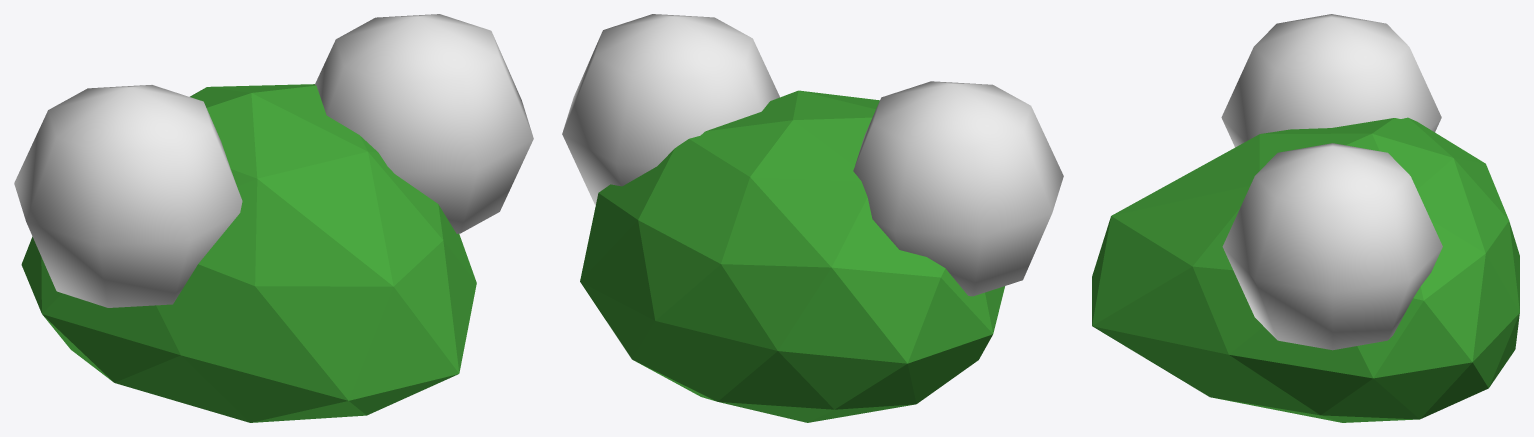
File: mordeczka.fbx
3 views of the same model, side by side, from view 1: azimuth 30°, elevation 25°; view 2: azimuth 150°, elevation 25°; view 3: azimuth 270°, elevation 25° (orthographic). The views are drawn at different scales.
Parts seen in each view (by area): view 1: mordeczka; view 2: mordeczka; view 3: mordeczka.
Part boxes in pixels (x1,y1,x2,y2): mordeczka: (14, 14, 533, 422); mordeczka: (562, 14, 1063, 422); mordeczka: (1092, 14, 1519, 422).
Bounding box in the file's own units: 164 × 108 × 133.
